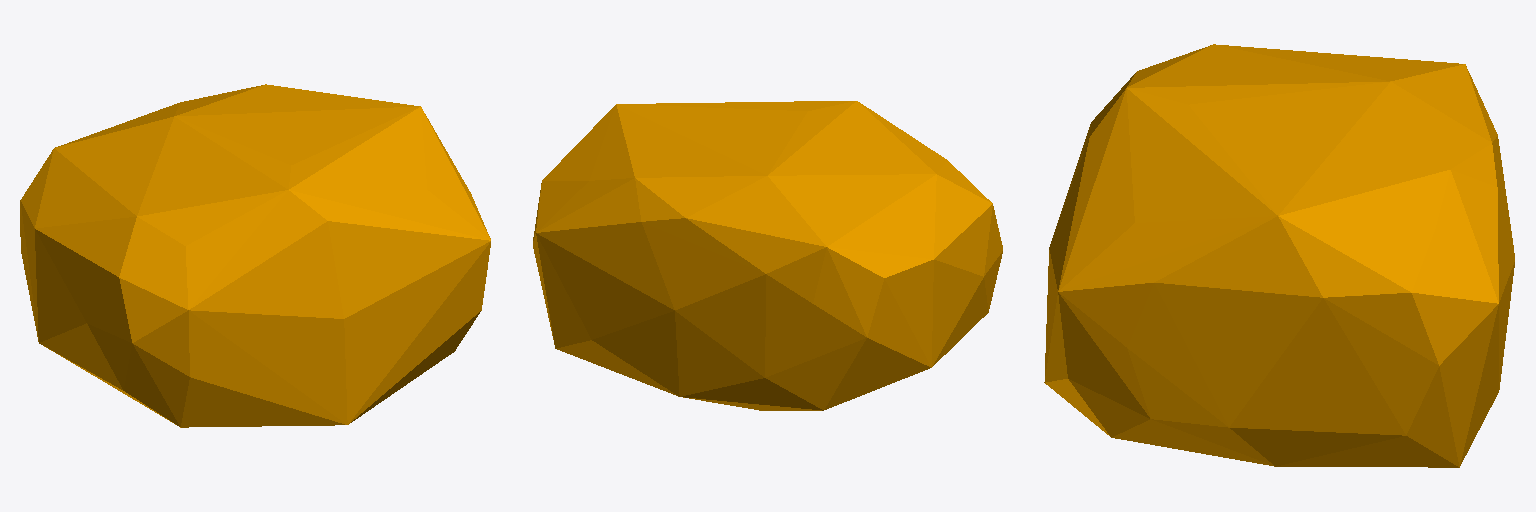
URDF robot description (067_017_1348):
<?xml version="1.0"?>
<robot name="067_017_1348">
  <link name="link">
    <contact>
      <lateral_friction value="0.6"/>
    </contact>
    <inertial>
      <mass value = "0.03882860086862508"/>
      <inertia ixx="3.3372748000683575e-06" ixy="9.773862576659856e-08" ixz="2.861528773884737e-08" iyy="4.366973413217491e-06" iyz="5.459599594387823e-08" izz="5.523766316234282e-06" />
    </inertial>
    <visual name="visual">
      <geometry>
        <mesh filename="067_017_1348.obj"/>
      </geometry>
    </visual>
    <collision name="collision">
      <geometry>
        <mesh filename="067_017_1348.obj"/>
      </geometry>
    </collision>
  </link>
</robot>

--- Facts derived from the render (not from the file) ---
The picture shows the robot from 3 angles, left to right: view 1: azimuth 30°, elevation 25°; view 2: azimuth 150°, elevation 25°; view 3: azimuth 270°, elevation 25°; orthographic projection.
Robot: 067_017_1348 — 1 links, 0 joints (none); root link link; default pose: every joint at zero.
Links seen in each view (by area): view 1: link; view 2: link; view 3: link.
Link boxes in pixels (<box>): link: <box>20,84,490,427</box>; link: <box>533,101,1002,410</box>; link: <box>1044,44,1514,467</box>.
Size in the robot's own frame: 0.0373 by 0.0308 by 0.0217 metres.
Meshes: 1 distinct files referenced, 1 mesh visuals loaded (1 OBJ).
